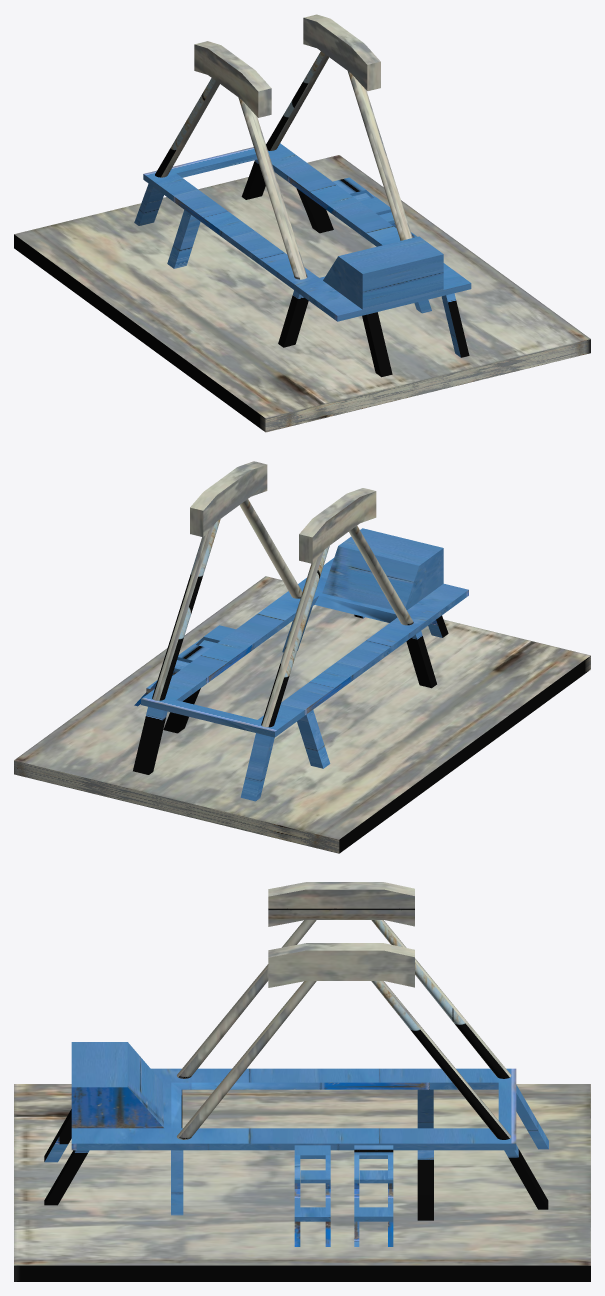
Rendered from baseCanoa.obj.
The picture shows the model from 3 angles, top to bottom: view 1: azimuth 30°, elevation 25°; view 2: azimuth 150°, elevation 25°; view 3: azimuth 270°, elevation 25°; orthographic projection. The views are drawn at different scales.
Parts seen in each view (by area): view 1: pCube8, pCube7, centro:pCube10; view 2: pCube8, pCube7, centro:pCube10; view 3: pCube8, pCube7, centro:pCube10.
Part boxes in pixels (x1,y1,x2,y2): pCube8: [14, 155, 590, 432]; pCube7: [134, 143, 471, 377]; centro:pCube10: [155, 14, 412, 279]; pCube8: [14, 576, 590, 853]; pCube7: [133, 528, 468, 801]; centro:pCube10: [152, 461, 413, 727]; pCube8: [14, 1084, 590, 1281]; pCube7: [44, 1042, 548, 1246]; centro:pCube10: [177, 882, 511, 1139].
Size of the model in its own units: 24.2 by 17.11 by 32.44.
